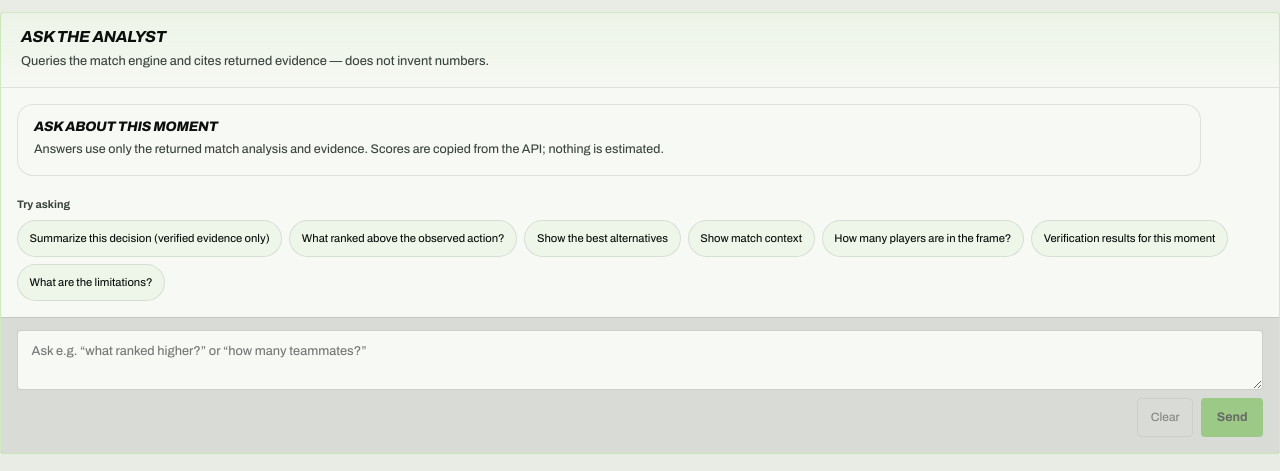
DecisionAnalystChat › sends free-form chat only to the orchestrator with current decision identifiers
Type "Explain this decision" into the text box.
click(640, 360); type("Explain this decision")  # box x1=17 y1=330 x2=1263 y2=390
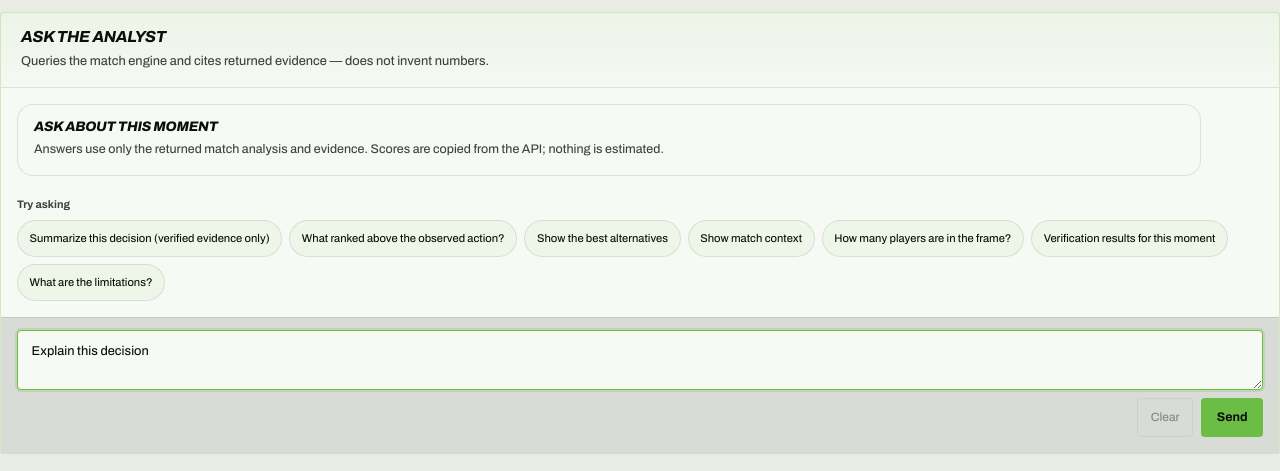
Click the button "Send".
click(1232, 418)  # box x1=1201 y1=398 x2=1263 y2=437
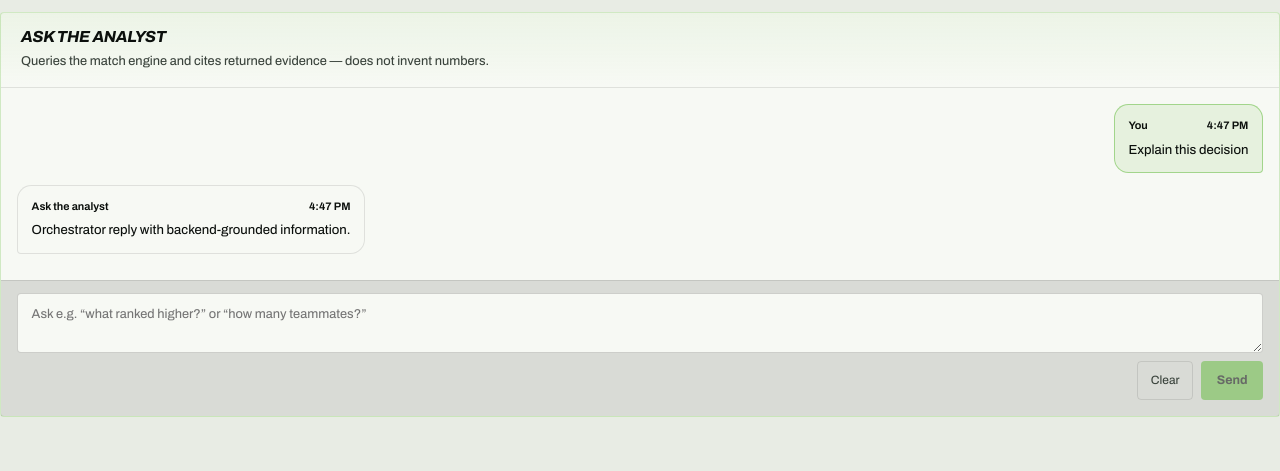
Expected: the text "Orchestrator reply with backend-grounded information." is shown, x1=32 y1=220 x2=350 y2=241
